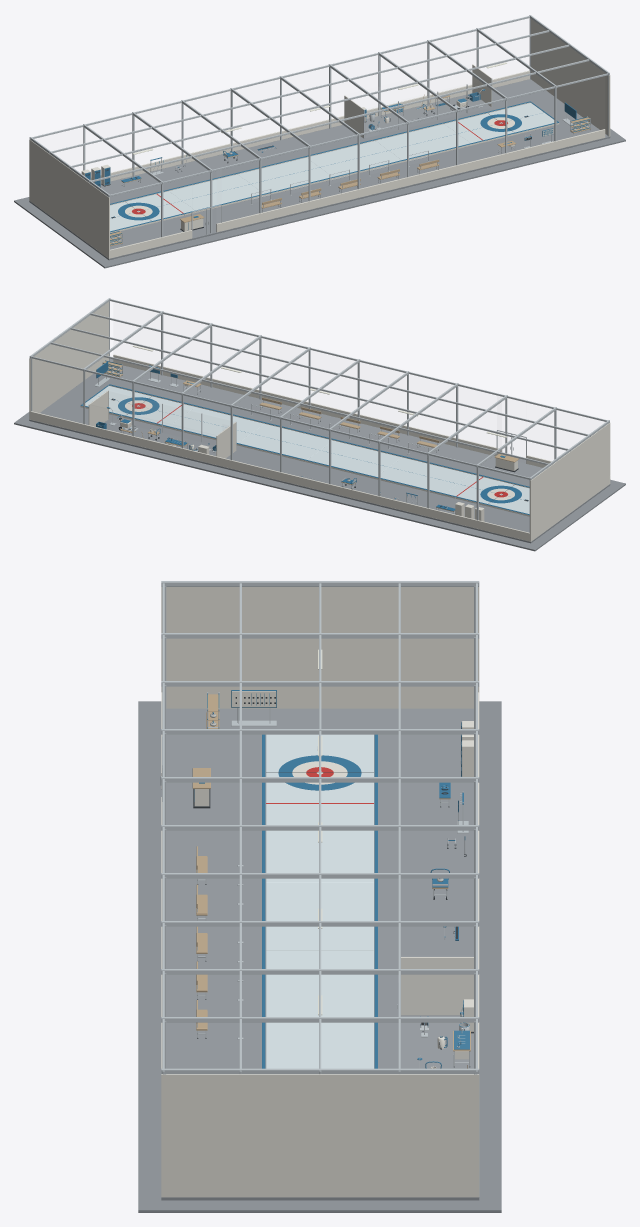
The model's file is curling-club-and-ice-maintenance-long-sh-8bd2e816-starter-scene__31308.glb.
The picture shows the model from 3 angles, top to bottom: view 1: azimuth 30°, elevation 25°; view 2: azimuth 150°, elevation 25°; view 3: azimuth 270°, elevation 25°; orthographic projection. The views are drawn at different scales.
Visible parts, largest first — view 1: 001-roofed-curling-hall/1, 001-roofed-curling-hall/0, 001-roofed-curling-hall/3, 000-curling-hall-base/0, 001-roofed-curling-hall/2, 003-ice-sheet-centre-module/0, 004-ice-sheet-centre-module/0, 005-ice-sheet-centre-module/0, 006-ice-sheet-centre-module/0, 007-ice-house-end-module/0, 002-ice-house-end-module/0, 002-ice-house-end-module/1 (+1 smaller); view 2: 001-roofed-curling-hall/1, 001-roofed-curling-hall/0, 001-roofed-curling-hall/3, 000-curling-hall-base/0, 001-roofed-curling-hall/2, 003-ice-sheet-centre-module/0, 005-ice-sheet-centre-module/0, 004-ice-sheet-centre-module/0, 006-ice-sheet-centre-module/0, 007-ice-house-end-module/0, 002-ice-house-end-module/0, 002-ice-house-end-module/1 (+1 smaller); view 3: 001-roofed-curling-hall/1, 001-roofed-curling-hall/0, 001-roofed-curling-hall/3, 000-curling-hall-base/0, 004-ice-sheet-centre-module/0, 005-ice-sheet-centre-module/0, 002-ice-house-end-module/0, 003-ice-sheet-centre-module/0, 006-ice-sheet-centre-module/0, 002-ice-house-end-module/1.
Boxes of the visible parts, x1=… form: 001-roofed-curling-hall/1: x1=29, y1=19, x2=610, y2=258; 001-roofed-curling-hall/0: x1=29, y1=79, x2=610, y2=260; 001-roofed-curling-hall/3: x1=29, y1=15, x2=609, y2=237; 000-curling-hall-base/0: x1=14, y1=128, x2=625, y2=268; 001-roofed-curling-hall/2: x1=345, y1=64, x2=471, y2=137; 003-ice-sheet-centre-module/0: x1=169, y1=174, x2=263, y2=210; 004-ice-sheet-centre-module/0: x1=238, y1=157, x2=332, y2=193; 005-ice-sheet-centre-module/0: x1=307, y1=141, x2=401, y2=176; 006-ice-sheet-centre-module/0: x1=375, y1=124, x2=469, y2=159; 007-ice-house-end-module/0: x1=444, y1=103, x2=554, y2=143; 002-ice-house-end-module/0: x1=110, y1=191, x2=194, y2=231; 002-ice-house-end-module/1: x1=118, y1=201, x2=181, y2=220; 001-roofed-curling-hall/1: x1=29, y1=302, x2=610, y2=541; 001-roofed-curling-hall/0: x1=29, y1=365, x2=610, y2=543; 001-roofed-curling-hall/3: x1=29, y1=298, x2=609, y2=532; 000-curling-hall-base/0: x1=14, y1=358, x2=625, y2=551; 001-roofed-curling-hall/2: x1=109, y1=391, x2=501, y2=447; 003-ice-sheet-centre-module/0: x1=376, y1=457, x2=470, y2=493; 005-ice-sheet-centre-module/0: x1=238, y1=424, x2=332, y2=459; 004-ice-sheet-centre-module/0: x1=307, y1=440, x2=401, y2=476; 006-ice-sheet-centre-module/0: x1=170, y1=407, x2=264, y2=442; 007-ice-house-end-module/0: x1=85, y1=386, x2=195, y2=426; 002-ice-house-end-module/0: x1=445, y1=474, x2=529, y2=513; 002-ice-house-end-module/1: x1=461, y1=484, x2=521, y2=503; 001-roofed-curling-hall/1: x1=161, y1=587, x2=479, y2=1197; 001-roofed-curling-hall/0: x1=161, y1=708, x2=479, y2=1200; 001-roofed-curling-hall/3: x1=160, y1=581, x2=479, y2=1074; 000-curling-hall-base/0: x1=138, y1=701, x2=501, y2=1212; 004-ice-sheet-centre-module/0: x1=266, y1=883, x2=373, y2=949; 005-ice-sheet-centre-module/0: x1=266, y1=950, x2=373, y2=1016; 002-ice-house-end-module/0: x1=266, y1=734, x2=373, y2=815; 003-ice-sheet-centre-module/0: x1=266, y1=815, x2=373, y2=882; 006-ice-sheet-centre-module/0: x1=266, y1=1022, x2=373, y2=1068; 002-ice-house-end-module/1: x1=278, y1=755, x2=361, y2=790.
Bounding box in the file's own units: 53 × 6.51 × 16.
